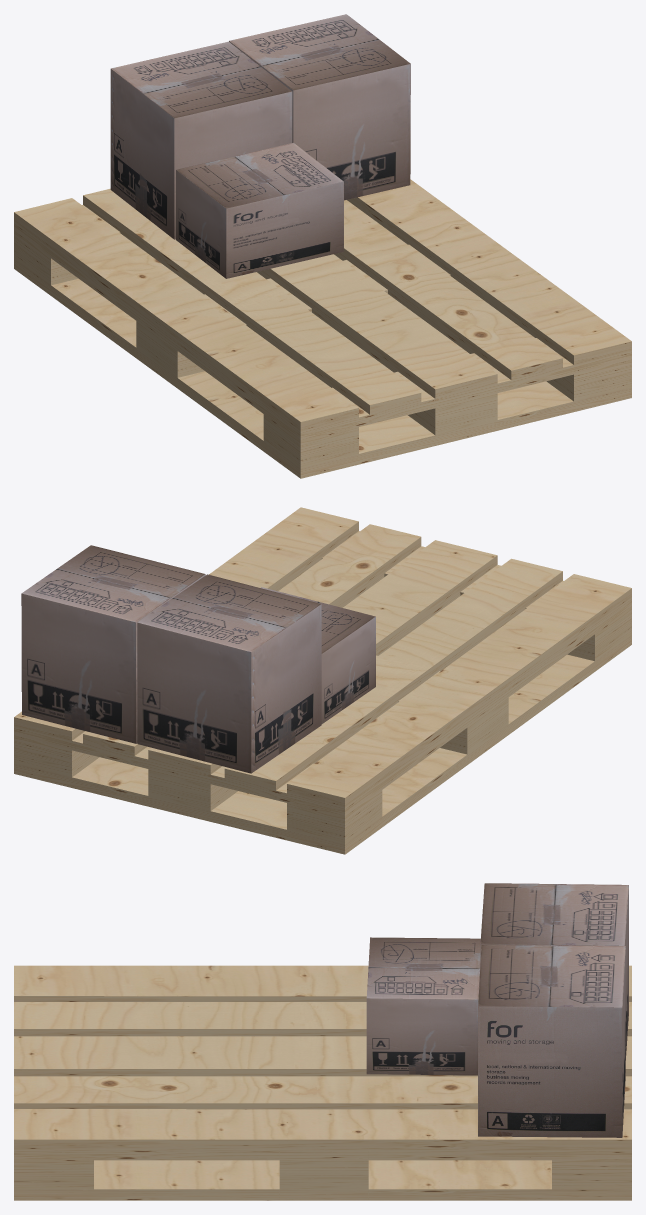
The picture shows the model from 3 angles, top to bottom: view 1: azimuth 30°, elevation 25°; view 2: azimuth 150°, elevation 25°; view 3: azimuth 270°, elevation 25°; orthographic projection. The views are drawn at different scales.
Parts seen in each view (by area): view 1: Palette, Box001, Box002, Box003; view 2: Palette, Box001, Box002, Box003; view 3: Palette, Box002, Box003, Box001.
Boxes of the visible parts, box(x1,y1,x2,y2) form: Palette: box(14, 179, 631, 478); Box001: box(110, 41, 292, 239); Box002: box(229, 14, 410, 200); Box003: box(176, 142, 343, 278); Palette: box(14, 507, 631, 854); Box001: box(137, 574, 321, 773); Box002: box(21, 545, 205, 743); Box003: box(261, 587, 375, 723); Palette: box(14, 965, 631, 1200); Box002: box(478, 944, 625, 1137); Box003: box(366, 937, 480, 1075); Box001: box(480, 883, 628, 1060).
Size of the model in its own units: 31.5 by 16.21 by 47.25.
6 materials, 6 textured.
